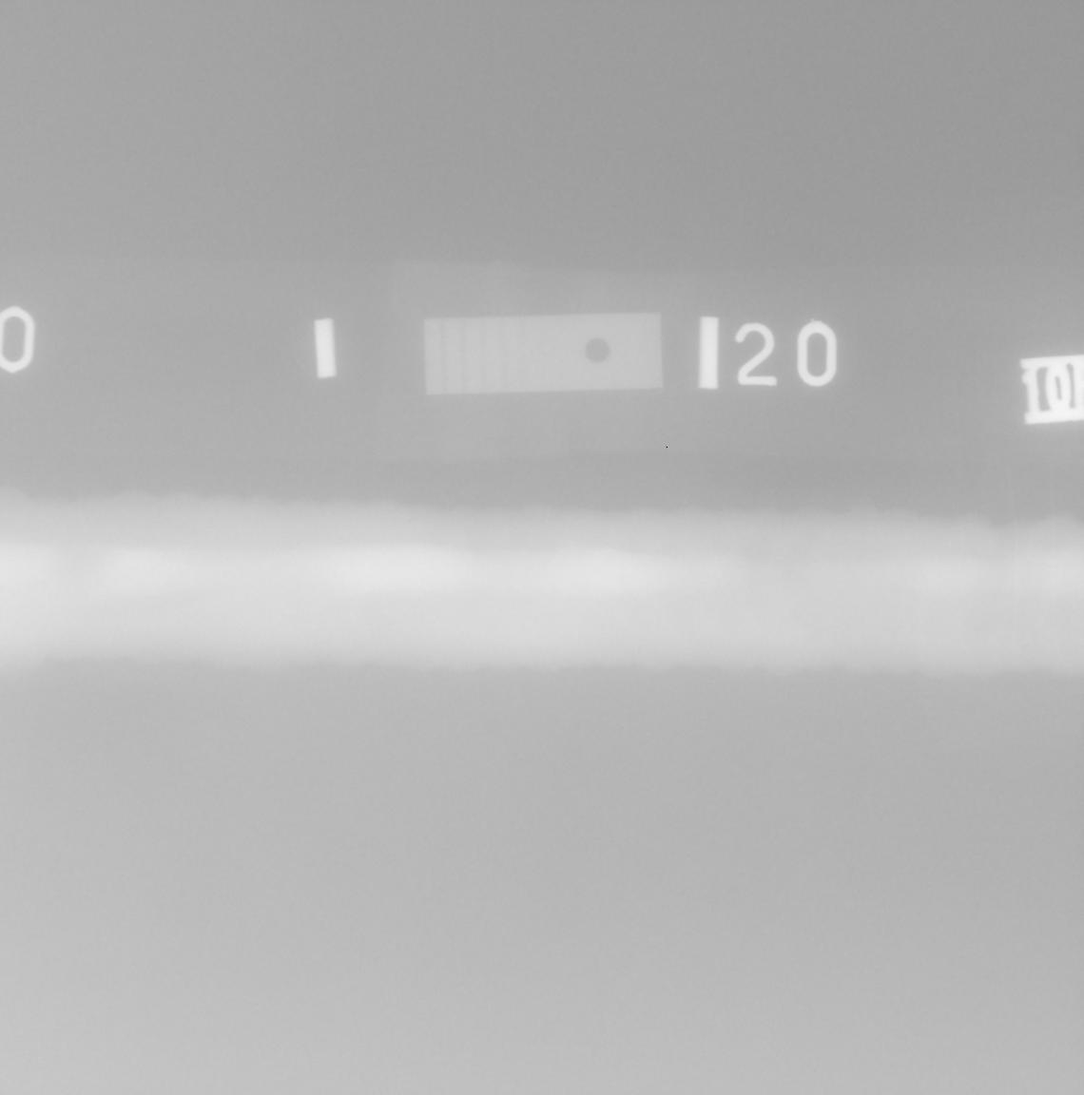Reference Standard 1: (423, 313, 661, 394)
